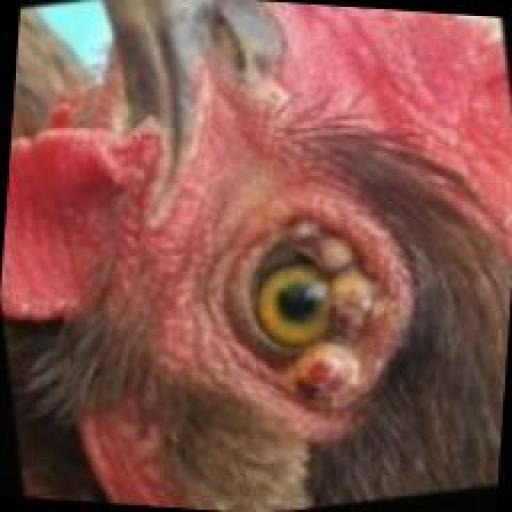disease: (216, 163, 425, 446)
